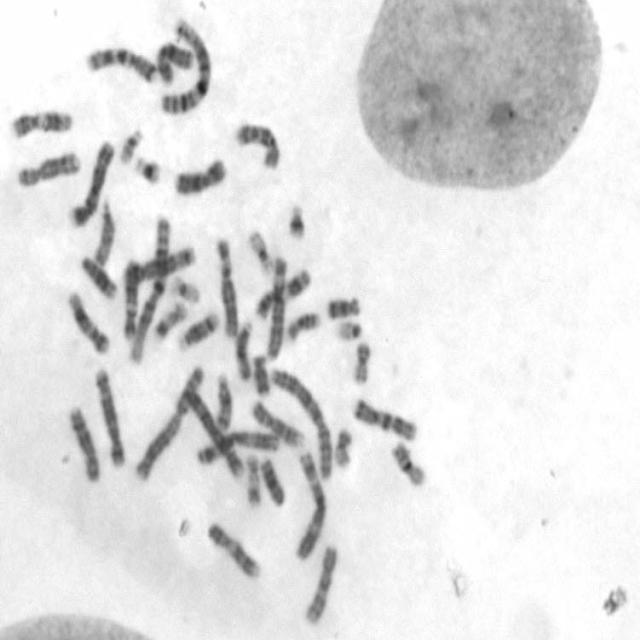A1: (125, 210, 172, 366), (155, 14, 213, 117)
A2: (130, 360, 207, 484), (266, 363, 334, 481)
A3: (291, 447, 329, 562), (195, 424, 281, 468)
B4: (174, 374, 246, 482), (64, 134, 116, 230)
B5: (91, 363, 128, 469), (125, 242, 199, 286)
C10: (301, 540, 340, 628), (232, 117, 282, 171)
C11: (252, 262, 312, 321), (8, 103, 75, 140)
C12: (62, 287, 112, 357), (120, 258, 142, 342)
C6: (212, 233, 240, 339), (263, 252, 287, 362)
C7: (350, 392, 420, 443), (82, 41, 158, 84)
C8: (64, 402, 102, 484), (13, 146, 81, 190)
C9: (204, 517, 262, 580), (247, 397, 306, 448)
D13: (76, 252, 118, 300), (258, 452, 287, 509)
D14: (174, 307, 221, 352), (212, 370, 234, 433)
D15: (91, 195, 116, 268), (233, 317, 254, 382)
E16: (388, 436, 428, 488), (284, 307, 322, 344)
E17: (152, 297, 189, 342), (242, 448, 263, 508)
E18: (249, 350, 273, 398), (324, 292, 362, 320)
F19: (244, 225, 274, 277), (167, 270, 202, 304)
F20: (330, 422, 354, 470), (350, 336, 372, 385)
G21: (130, 150, 163, 185), (284, 199, 308, 241)
G22: (116, 124, 145, 165), (333, 316, 364, 343)
X: (170, 153, 228, 198), (154, 38, 194, 86)
